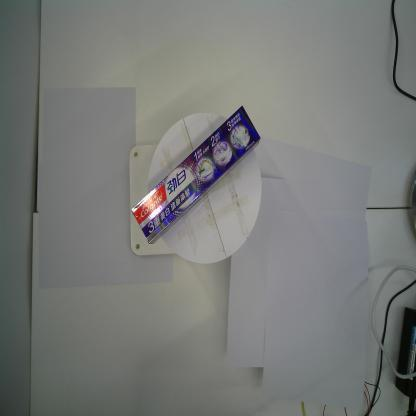Personal Hygiene: (132, 105, 261, 245)
